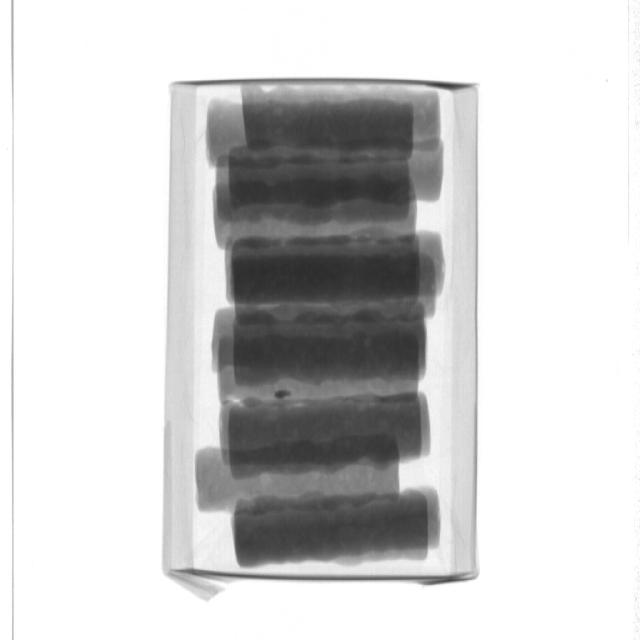ym: (276, 390, 293, 399)
